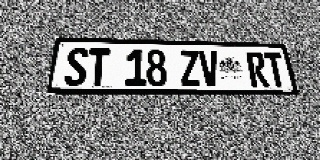1: (125, 49, 146, 86)
8: (146, 49, 167, 86)
R: (246, 52, 270, 87)
S: (64, 47, 89, 86)
T: (263, 52, 288, 87), (87, 48, 110, 86)
V: (198, 51, 221, 87)
Z: (179, 50, 201, 86)
